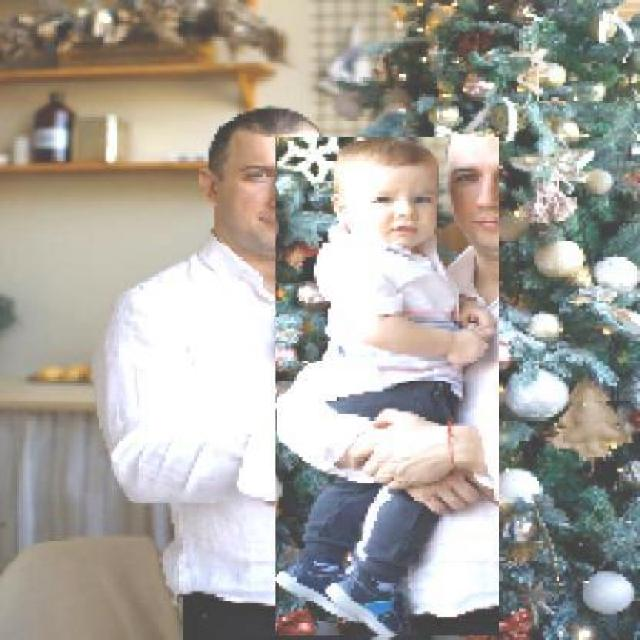child: (274, 137, 500, 637)
